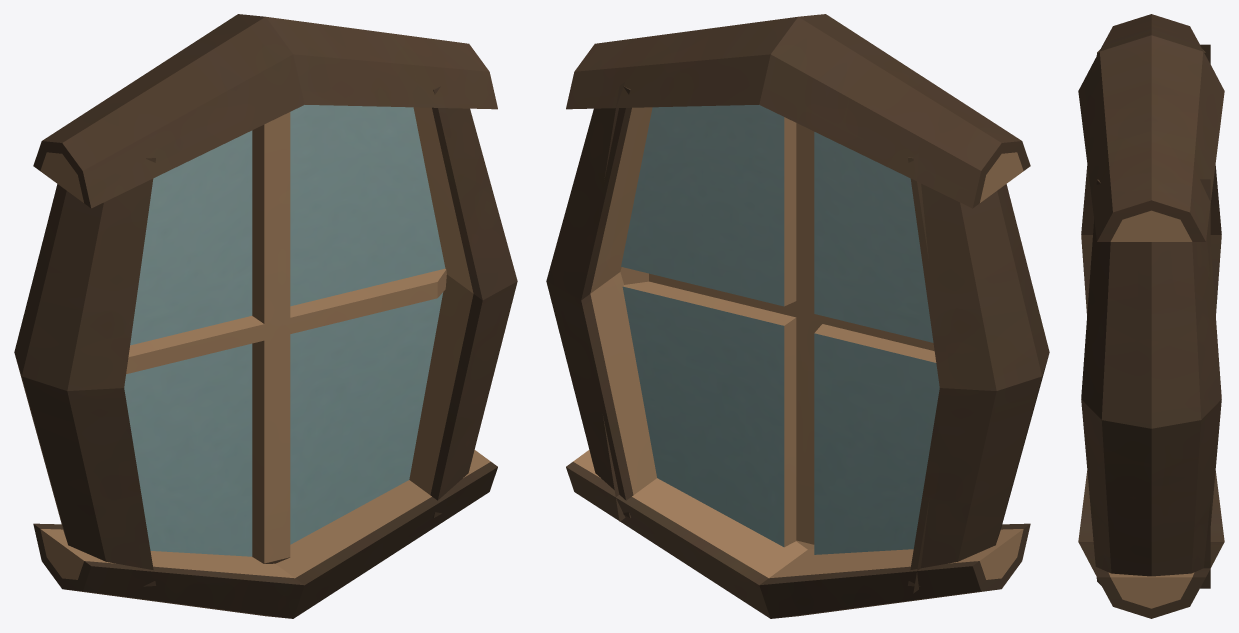
File: cabin_Window_Round.obj
The picture shows the model from 3 angles, left to right: view 1: azimuth 30°, elevation 25°; view 2: azimuth 150°, elevation 25°; view 3: azimuth 270°, elevation 25°; orthographic projection. The views are drawn at different scales.
Visible parts, largest first — view 1: cabin_Window_Round; view 2: cabin_Window_Round; view 3: cabin_Window_Round.
Part boxes in pixels (left/top/right/bottom): cabin_Window_Round: left=14, top=14, right=517, bottom=618; cabin_Window_Round: left=546, top=14, right=1049, bottom=618; cabin_Window_Round: left=1078, top=14, right=1224, bottom=618.
Bounding box in the file's own units: 1.47 × 1.73 × 0.4074.
